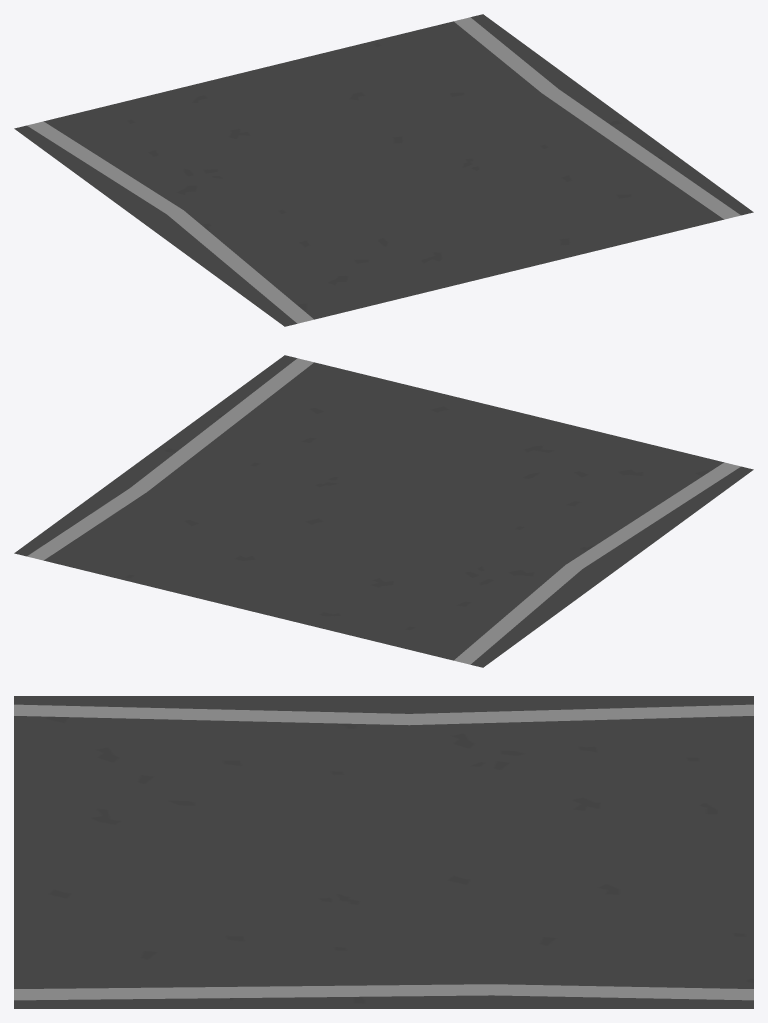
File: SM_Env_Road_Lines_02.fbx
The picture shows the model from 3 angles, top to bottom: view 1: azimuth 30°, elevation 25°; view 2: azimuth 150°, elevation 25°; view 3: azimuth 270°, elevation 25°; orthographic projection. The views are drawn at different scales.
Parts seen in each view (by area): view 1: SM_Env_Road_Lines_02; view 2: SM_Env_Road_Lines_02; view 3: SM_Env_Road_Lines_02.
Part boxes in pixels (x1=…): SM_Env_Road_Lines_02: x1=14, y1=14, x2=753, y2=326; SM_Env_Road_Lines_02: x1=14, y1=355, x2=753, y2=667; SM_Env_Road_Lines_02: x1=14, y1=696, x2=753, y2=1008.
Bounding box in the file's own units: 500 × 0 × 500.
